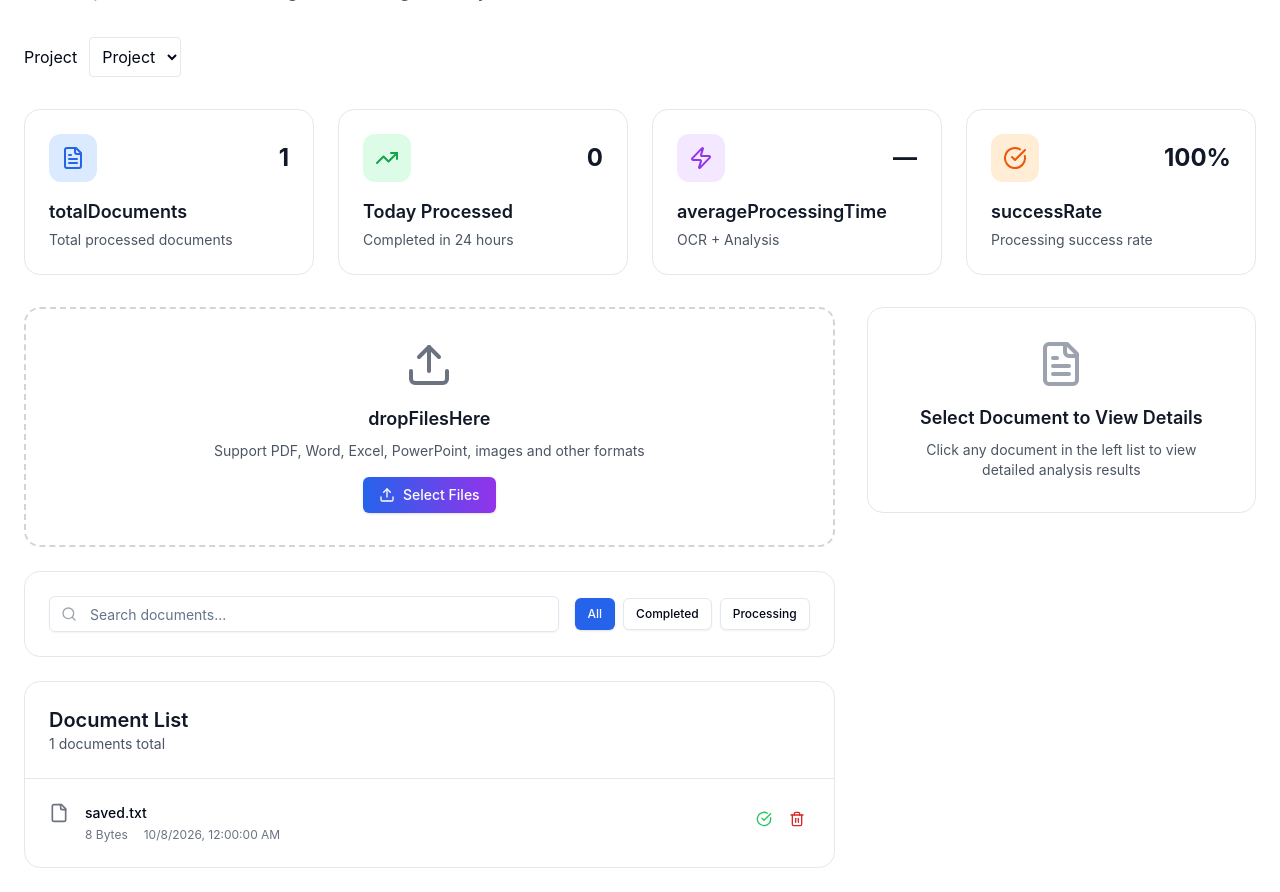
deletes a confirmed document by hash and reloads the list
(page scrolled)
Click the button named "Delete saved.txt" at (797, 819), box [784,803,810,835]
(page scrolled)
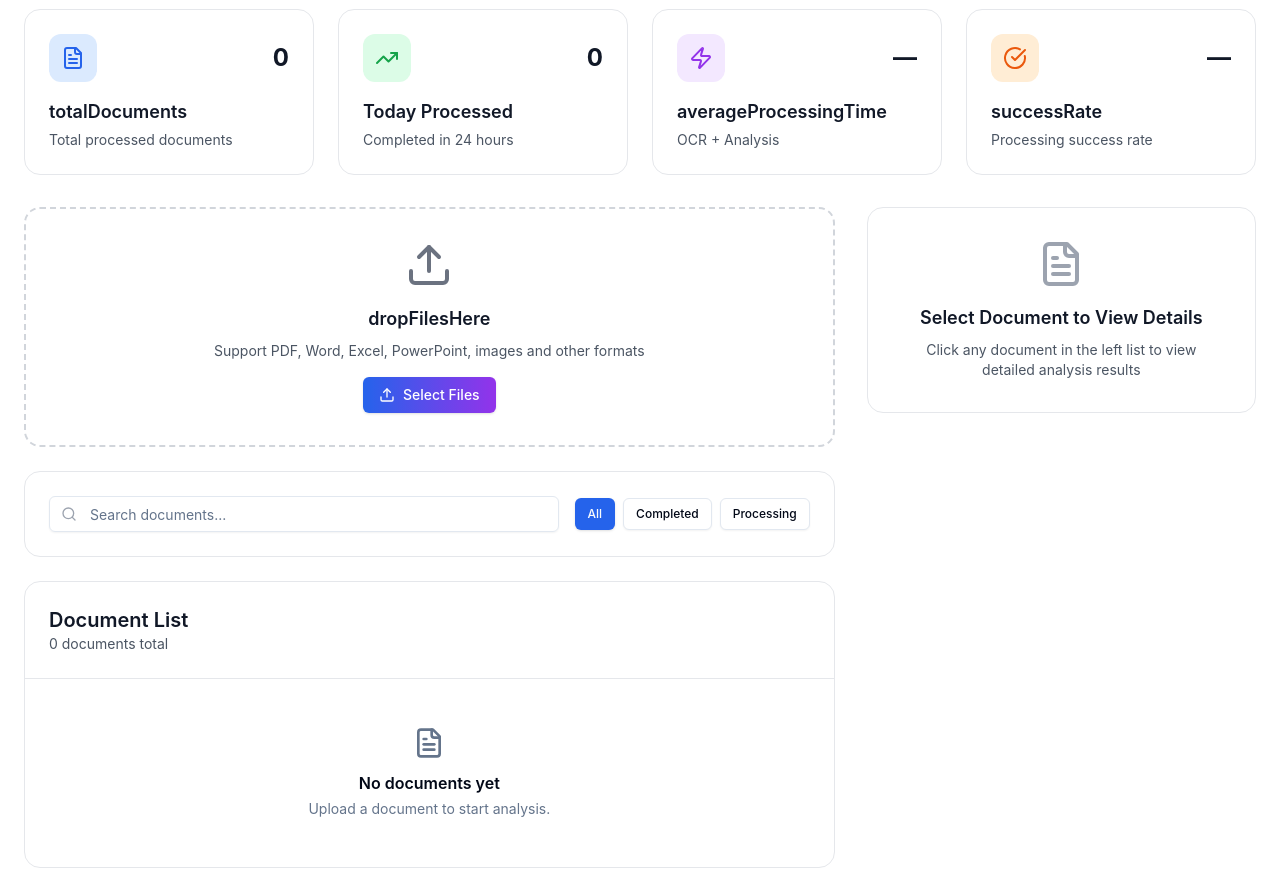
Expected: the heading "No documents yet" is shown, [359,773,500,793]
